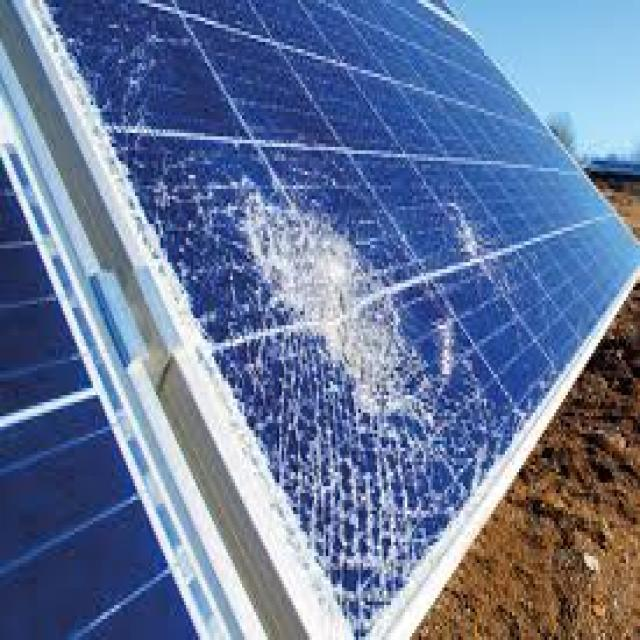faulty: (0, 0, 533, 623)
